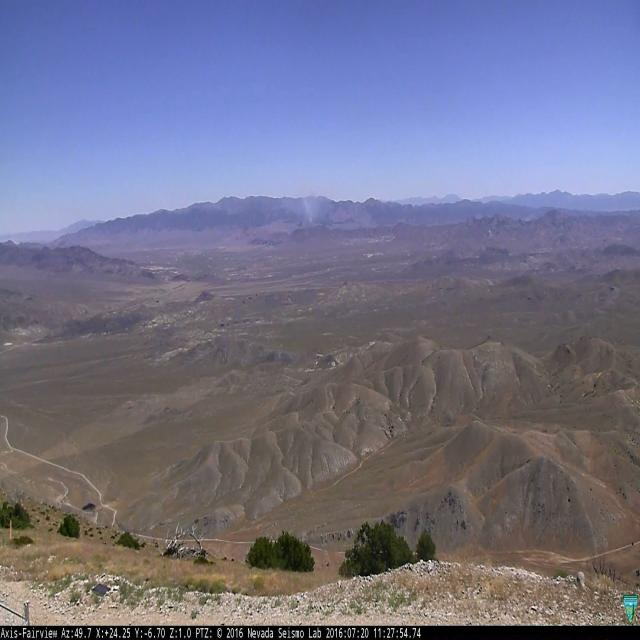smoke: (302, 196, 318, 226)
